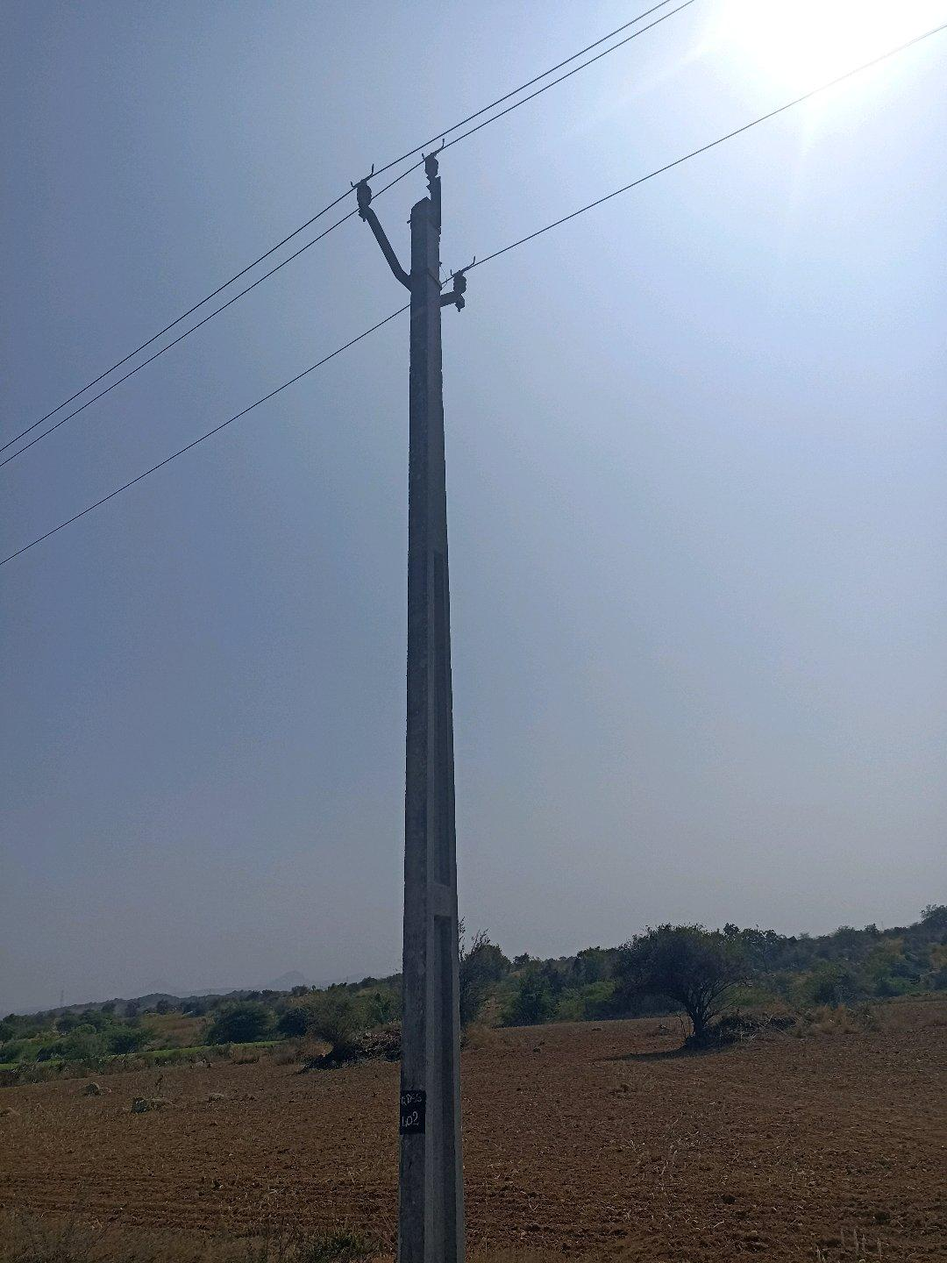{"0" "insulator", "1" "pole", "2" "crossarm", "3" "conductor", "4" "street_: (355, 154, 466, 1262)
